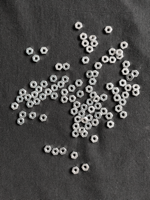nut: (121, 41, 129, 50), (75, 22, 83, 30), (105, 26, 113, 34), (91, 40, 99, 48), (116, 49, 124, 57), (109, 56, 117, 64), (94, 62, 102, 70), (89, 78, 97, 86), (50, 75, 58, 83), (57, 81, 65, 89), (30, 81, 38, 89), (35, 86, 43, 94), (39, 93, 47, 101), (33, 98, 41, 106), (19, 89, 27, 97), (106, 83, 114, 91), (88, 106, 96, 114), (115, 105, 123, 113), (120, 111, 128, 119), (107, 121, 115, 129), (92, 119, 100, 127), (72, 123, 80, 131), (72, 167, 80, 175), (126, 74, 135, 81), (131, 70, 140, 77), (89, 92, 98, 99), (26, 48, 34, 55), (40, 47, 48, 54), (33, 55, 40, 63), (89, 35, 97, 42), (86, 46, 94, 53), (56, 63, 63, 71), (63, 63, 70, 71), (82, 57, 90, 64), (109, 48, 116, 56), (123, 61, 131, 68), (122, 68, 130, 75), (86, 71, 94, 78), (92, 70, 99, 78), (62, 76, 69, 84), (51, 84, 58, 92), (40, 81, 48, 88), (75, 80, 83, 87), (120, 79, 127, 87), (61, 89, 69, 96), (61, 96, 68, 104), (31, 91, 38, 99), (24, 94, 32, 101), (26, 101, 34, 108), (16, 96, 24, 103), (19, 111, 26, 119), (17, 118, 25, 125), (29, 112, 36, 120), (40, 115, 48, 122), (68, 85, 76, 92), (69, 95, 76, 103), (125, 84, 132, 92), (133, 85, 141, 92), (112, 88, 120, 95), (122, 92, 130, 99), (114, 95, 122, 102), (119, 99, 127, 106), (93, 96, 101, 103), (101, 94, 108, 102), (86, 99, 94, 106), (81, 104, 88, 112), (71, 108, 78, 116), (78, 110, 85, 118), (100, 108, 108, 115), (106, 113, 114, 120), (95, 112, 102, 120), (86, 115, 94, 122), (75, 116, 82, 124), (81, 117, 89, 124), (81, 131, 89, 138), (72, 130, 79, 138), (91, 136, 99, 143), (44, 146, 52, 153), (52, 148, 59, 156), (59, 148, 67, 155), (71, 152, 78, 160), (82, 164, 90, 171), (80, 33, 87, 40), (82, 40, 89, 47), (117, 53, 124, 60), (102, 56, 109, 63), (51, 93, 58, 100), (45, 89, 52, 96), (11, 103, 18, 110), (86, 86, 93, 93), (77, 91, 84, 98), (133, 90, 140, 97), (74, 102, 81, 109), (95, 103, 102, 110), (85, 123, 92, 130), (79, 127, 86, 134)
